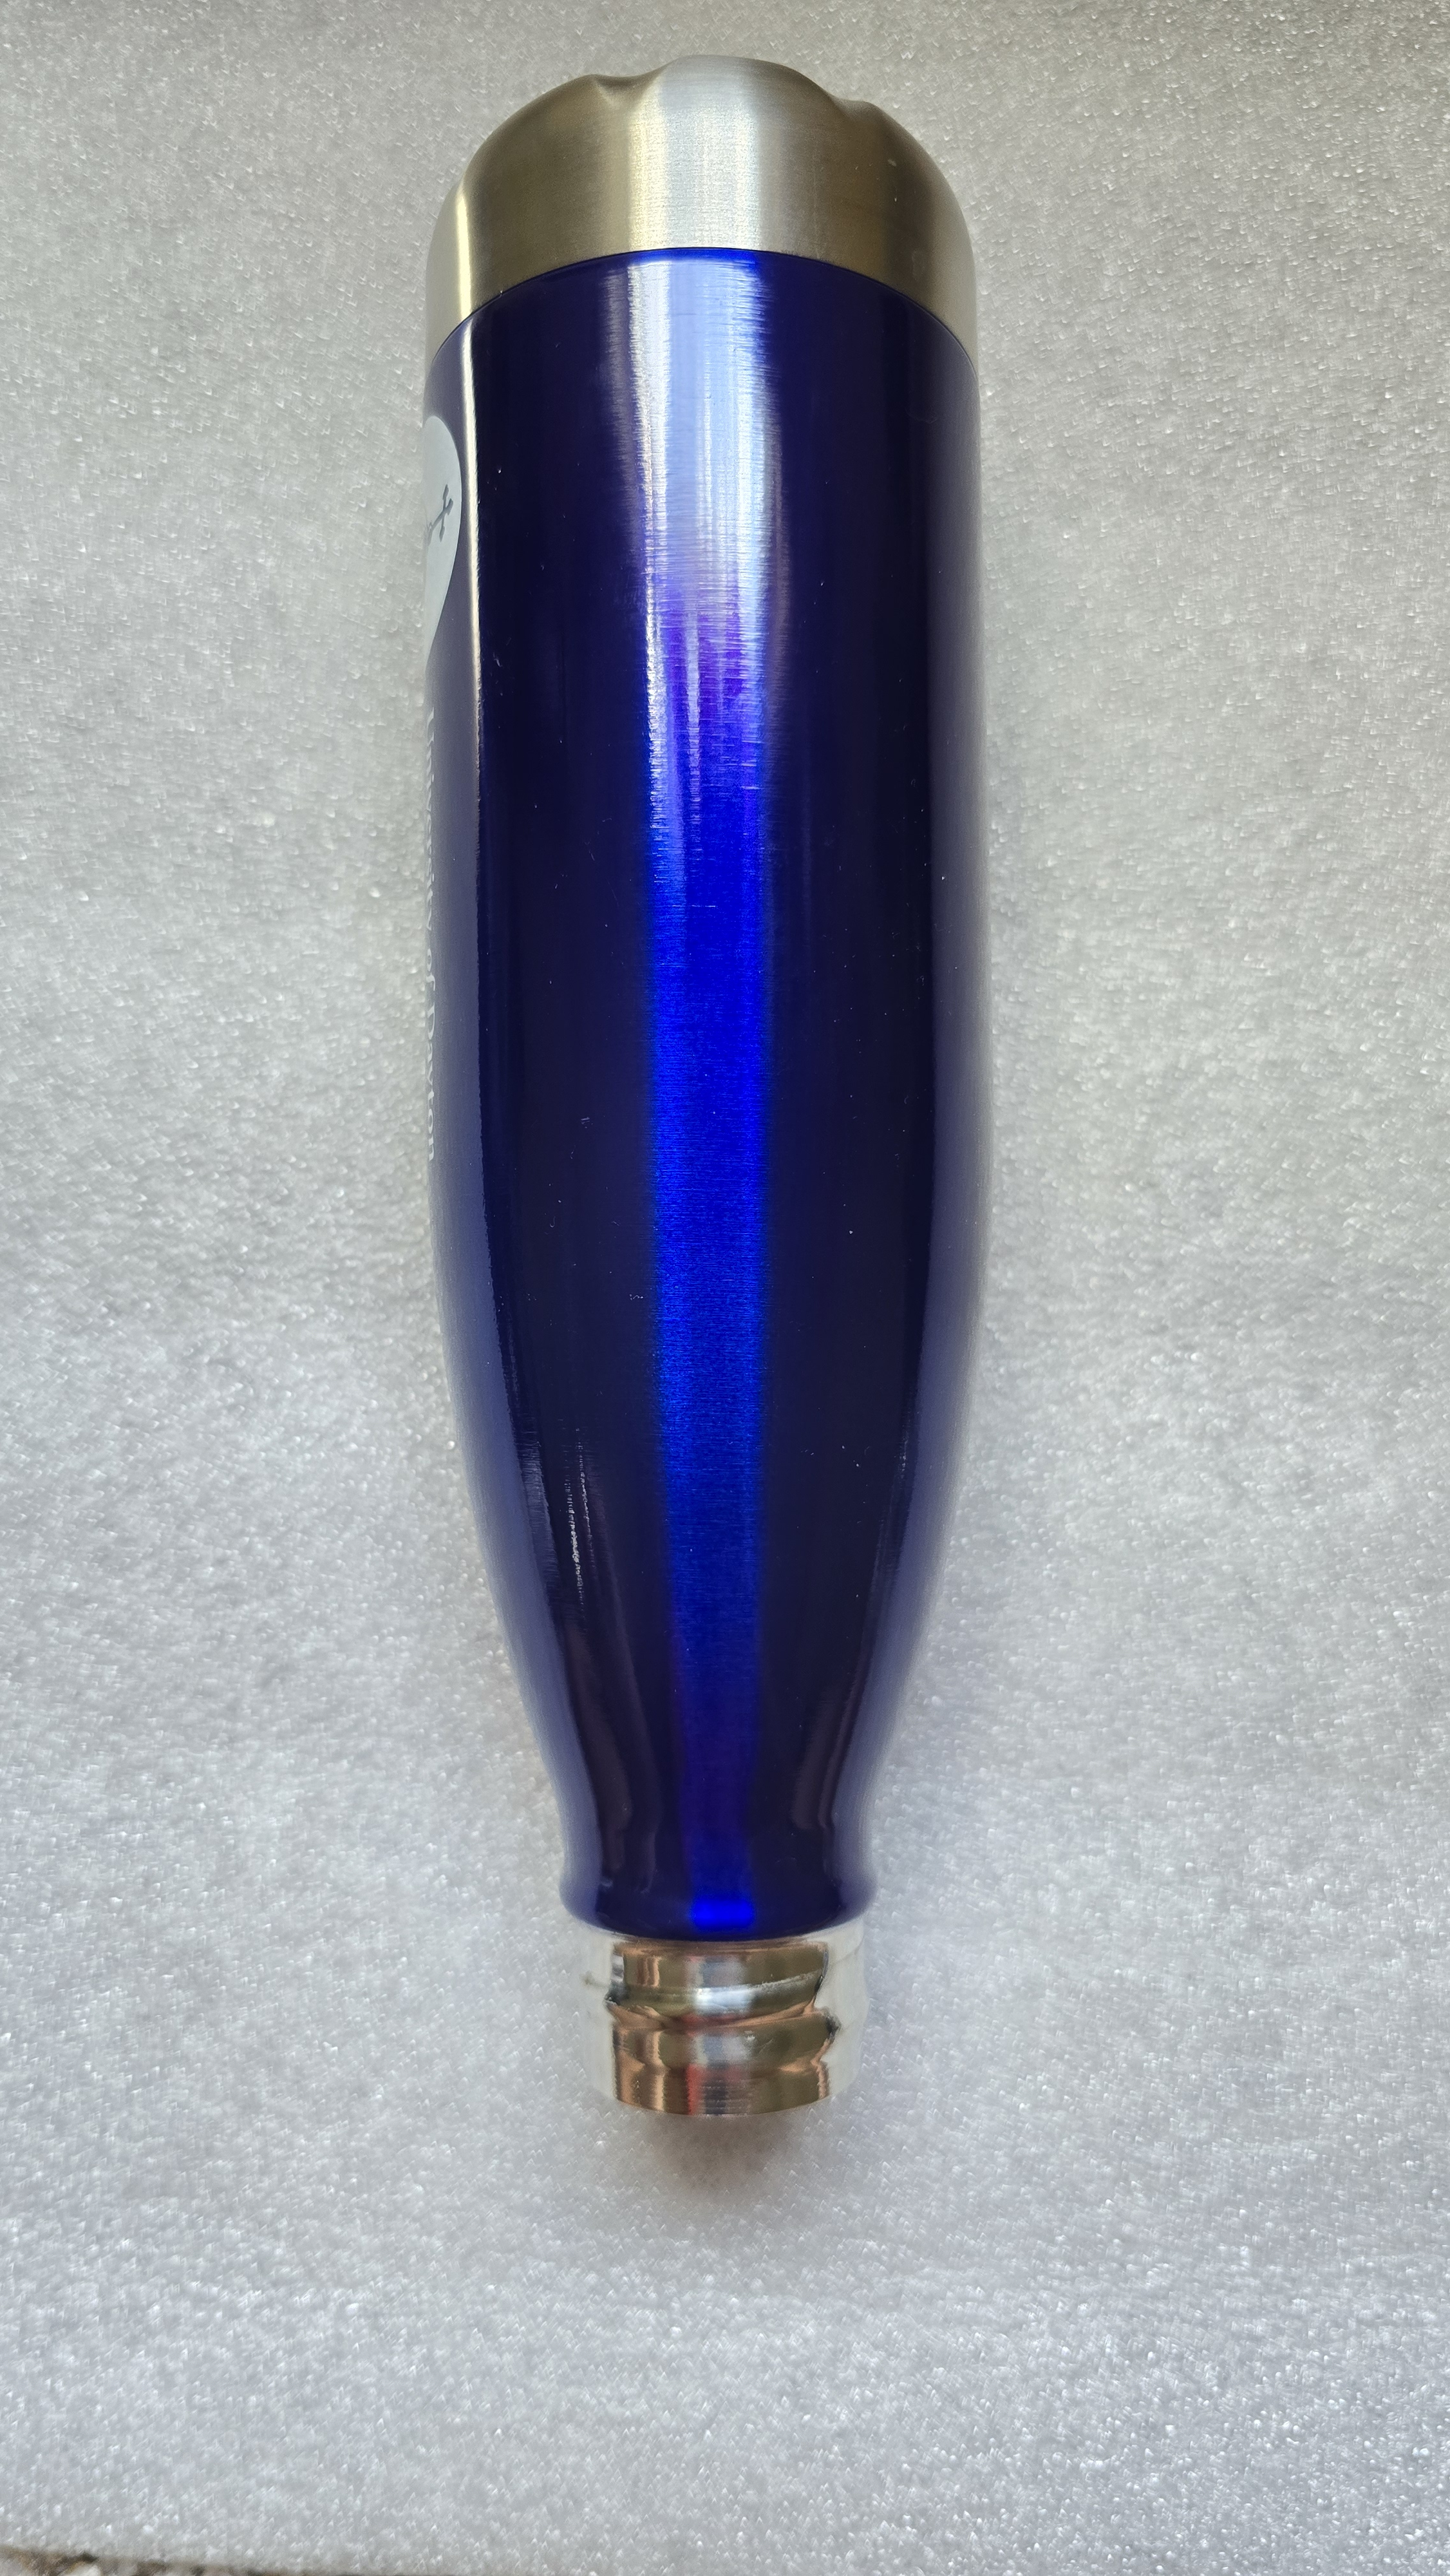bottle: (336, 64, 1273, 2160)
